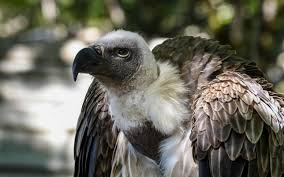Pengoyak Daging: (68, 43, 99, 88)
